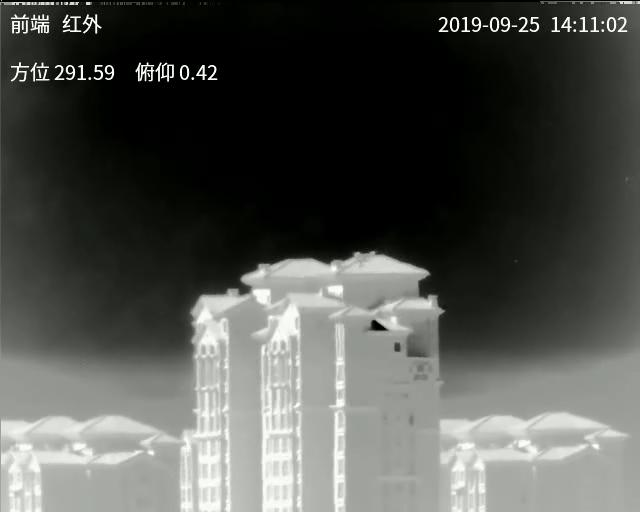uav: (352, 247, 378, 268)
